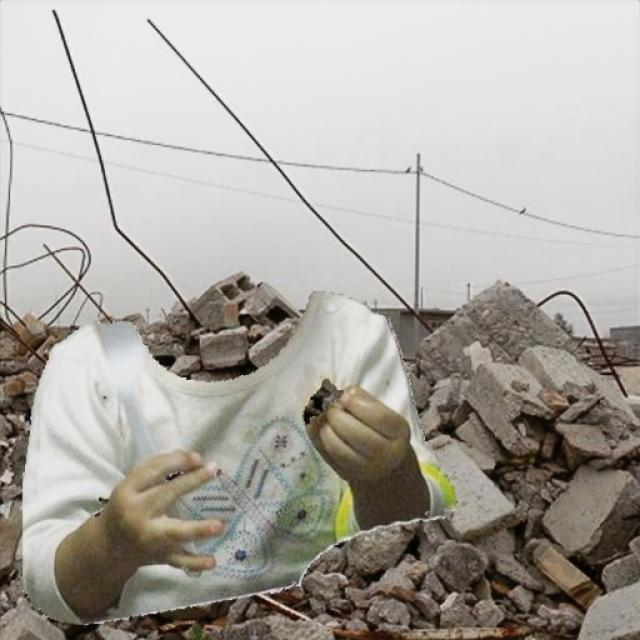Person in Rubble: (22, 291, 456, 625)
